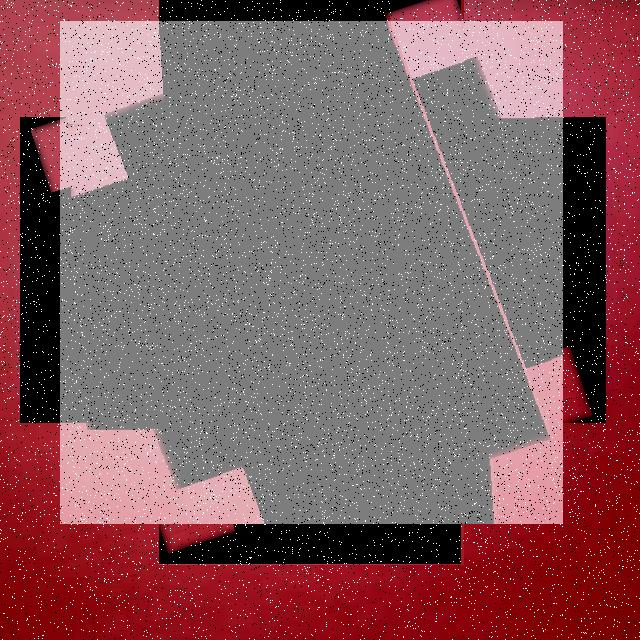lima puluh ribu rupiah: (60, 21, 563, 524)
